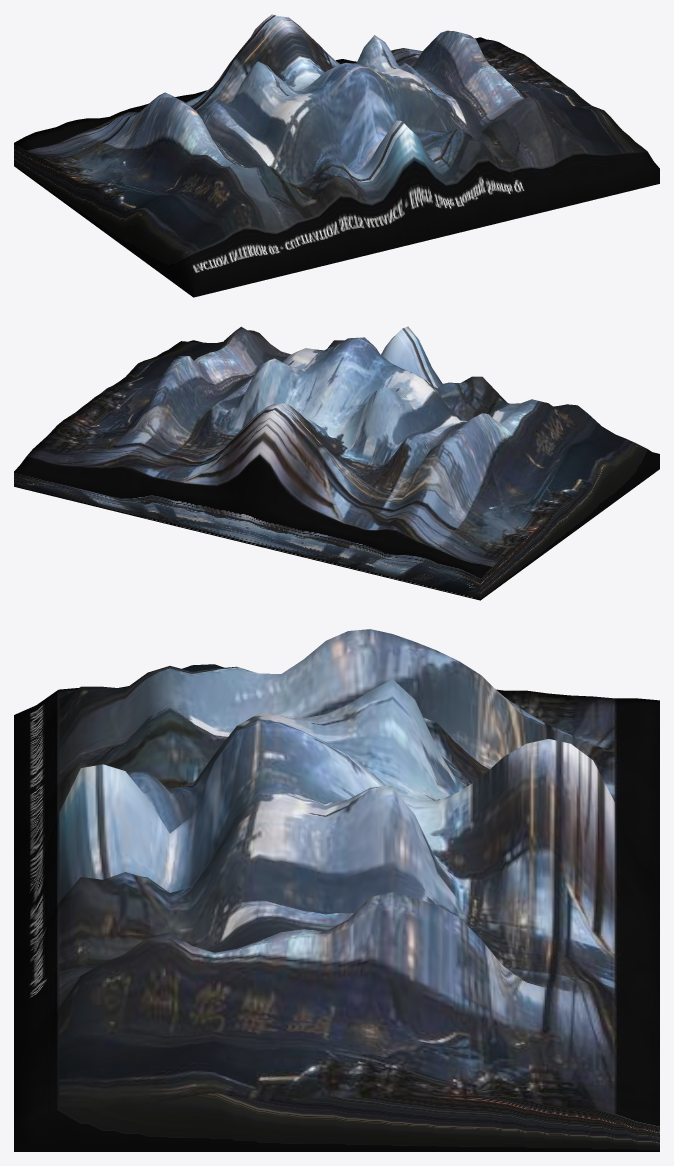
The model's file is FACTION_INT_03_Sects_Alliance.glb.
The picture shows the model from 3 angles, top to bottom: view 1: azimuth 30°, elevation 25°; view 2: azimuth 150°, elevation 25°; view 3: azimuth 270°, elevation 25°; orthographic projection. The views are drawn at different scales.
Parts seen in each view (by area): view 1: FACTION_INT_03_Sects_Alliance; view 2: FACTION_INT_03_Sects_Alliance; view 3: FACTION_INT_03_Sects_Alliance.
Boxes of the visible parts, box(x1,y1,x2,y2) form: FACTION_INT_03_Sects_Alliance: box(14, 14, 659, 297); FACTION_INT_03_Sects_Alliance: box(14, 326, 659, 600); FACTION_INT_03_Sects_Alliance: box(14, 629, 659, 1151).
Bounding box in the file's own units: 2 × 0.51 × 1.33.
Materials: 1 (1 with a texture image).
